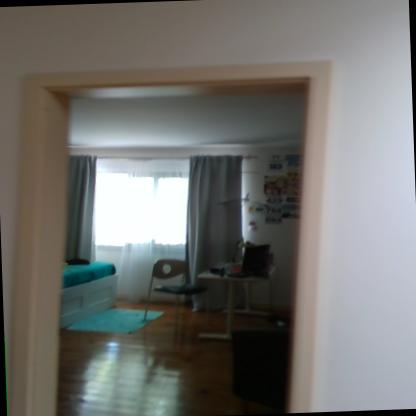open: (0, 54, 356, 415)
